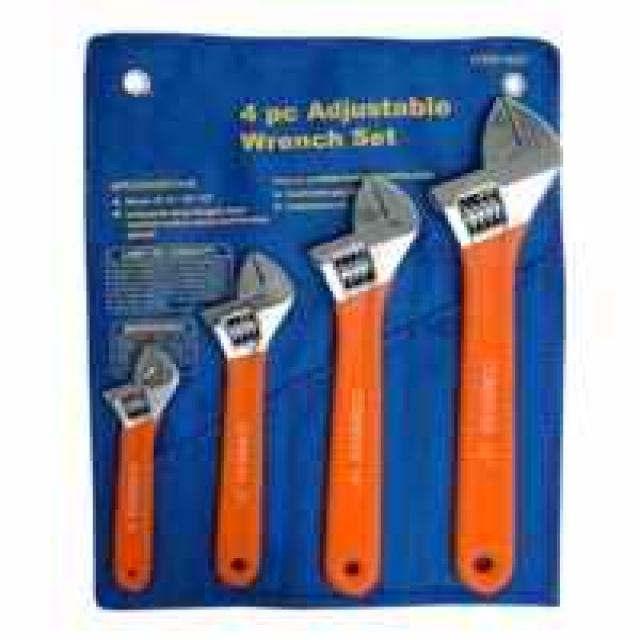wrench: (424, 81, 574, 604), (299, 168, 428, 595), (183, 237, 294, 602), (86, 328, 185, 594)
